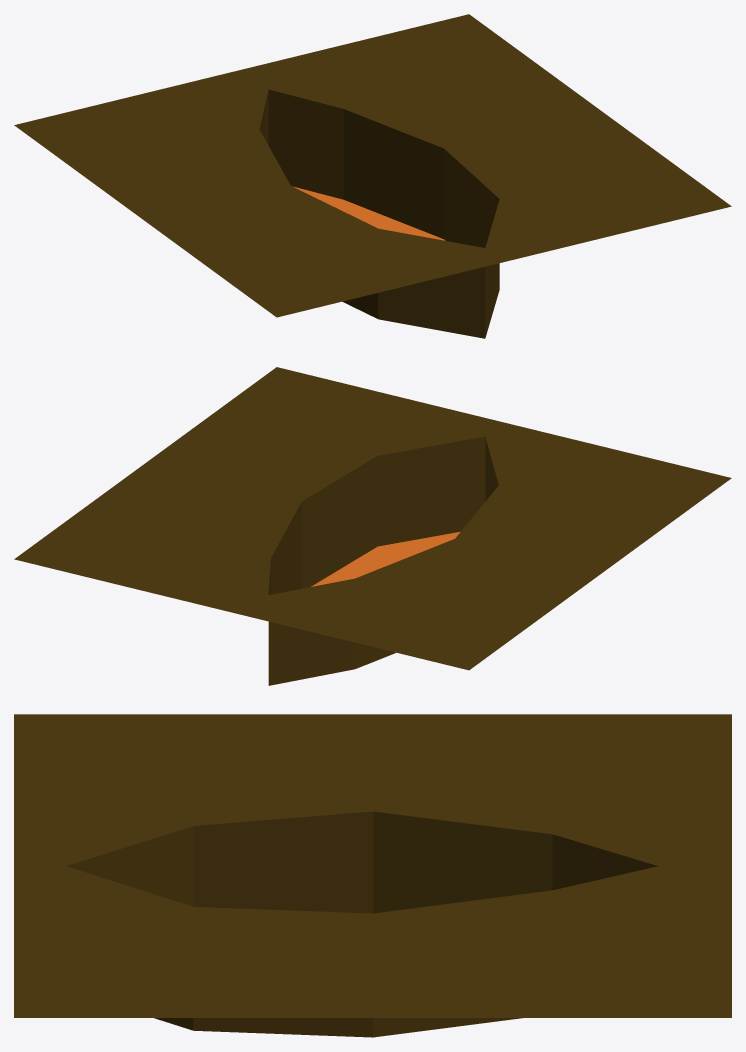
File: MagmaPit1.fbx
3 views of the same model, one above another, from view 1: azimuth 30°, elevation 25°; view 2: azimuth 150°, elevation 25°; view 3: azimuth 270°, elevation 25° (orthographic). The views are drawn at different scales.
Parts seen in each view (by area): view 1: Plane; view 2: Plane; view 3: Plane.
Part boxes in pixels (x1=…): Plane: x1=14, y1=14, x2=731, y2=338; Plane: x1=14, y1=367, x2=731, y2=685; Plane: x1=14, y1=714, x2=731, y2=1037.
Bounding box in the file's own units: 3169 × 604 × 3169.
